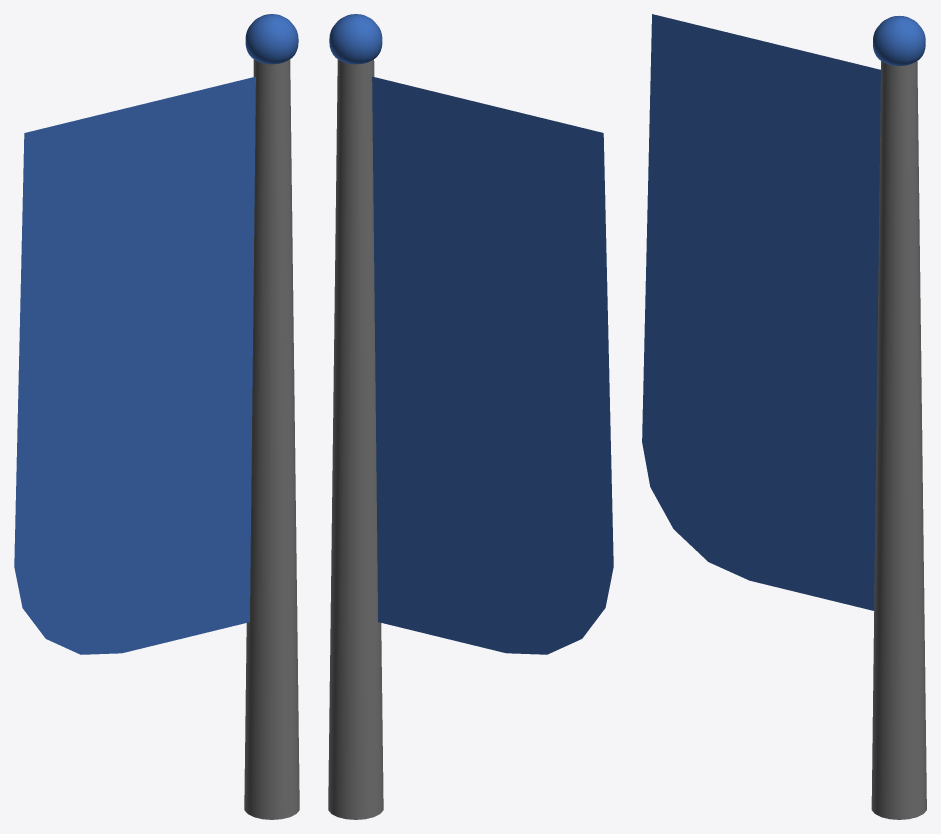
File: SM_Flag.fbx
3 renders of one model, left to right at view 1: azimuth 30°, elevation 25°; view 2: azimuth 150°, elevation 25°; view 3: azimuth 330°, elevation 25°, orthographic.
Parts seen in each view (by area): view 1: SM_Flag; view 2: SM_Flag; view 3: SM_Flag.
Part boxes in pixels (x1,y1,x2,y2): SM_Flag: (14,14,299,819); SM_Flag: (328,14,613,819); SM_Flag: (642,14,926,819).
Size of the model in its own units: 76.76 by 206 by 13.04.
